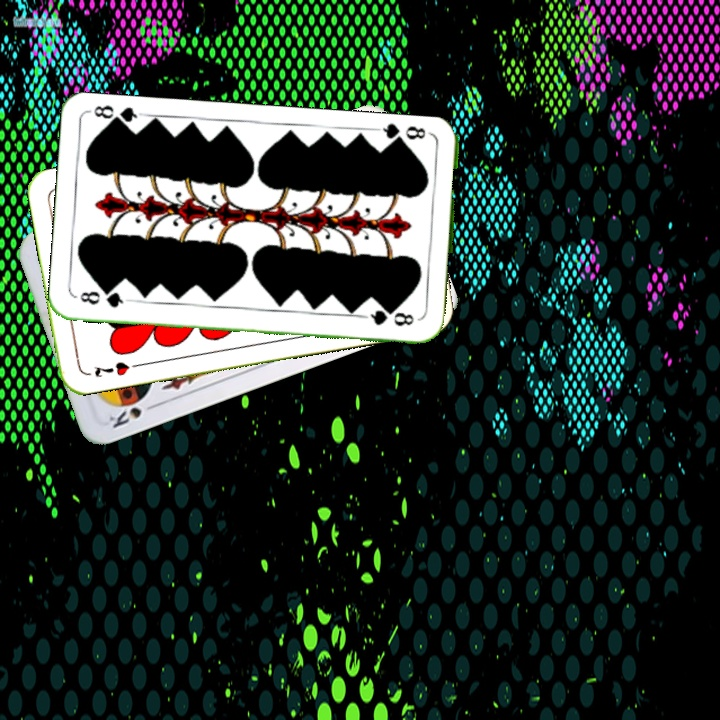G8: (375, 120, 435, 149), (76, 287, 132, 310)
H7: (90, 357, 143, 380)
SK: (104, 391, 161, 431)
